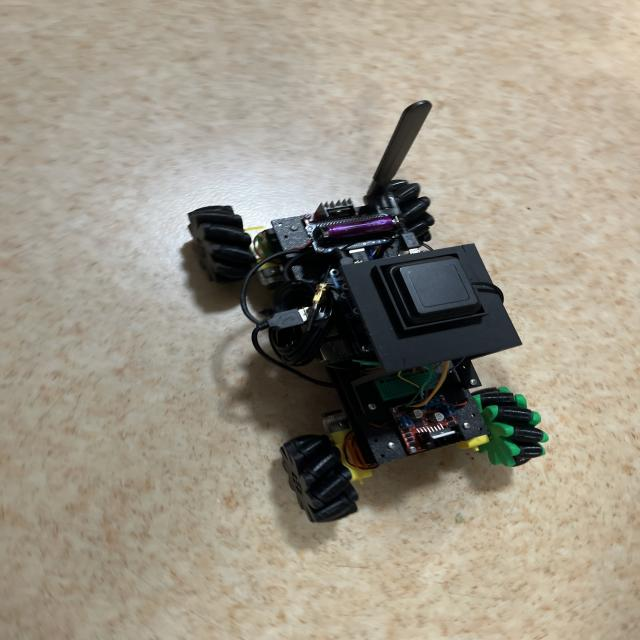robot: (188, 101, 548, 522)
